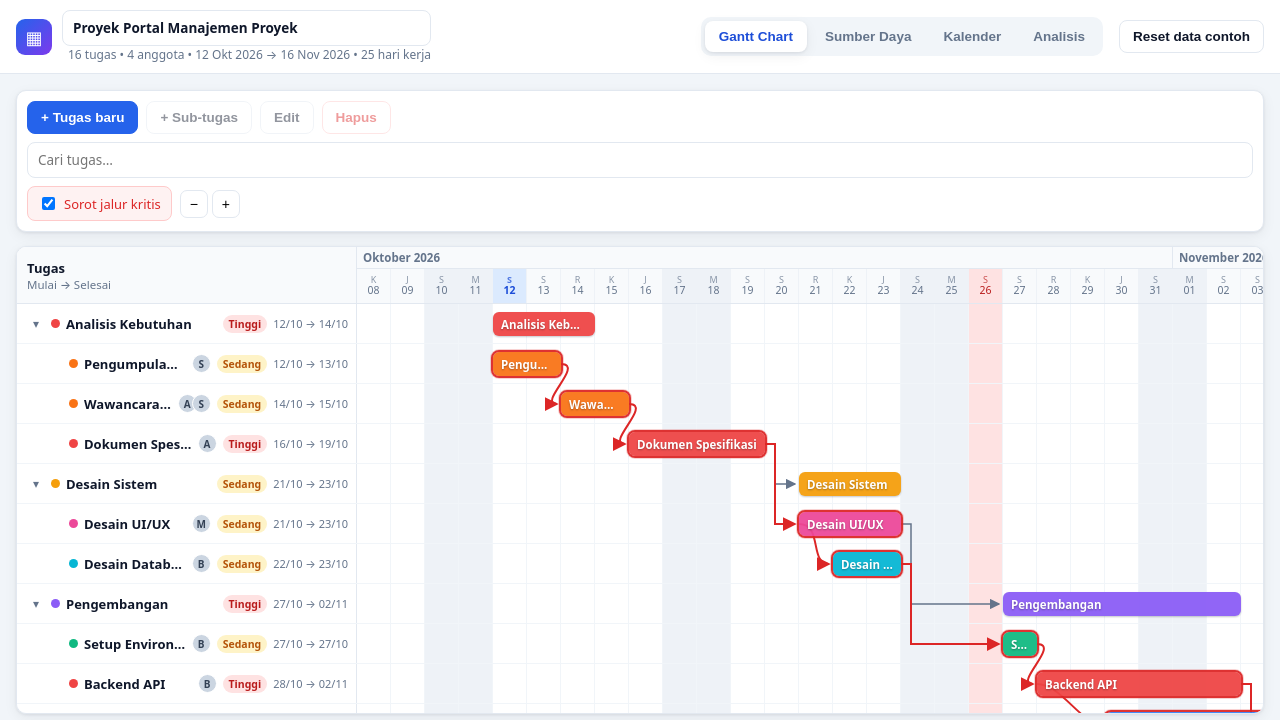
App (UI) › tab Analisis menampilkan jalur kritis dan diagram PERT
Click the button "Analisis".
click(1059, 36)  # box [1019,21,1099,52]
(page scrolled)
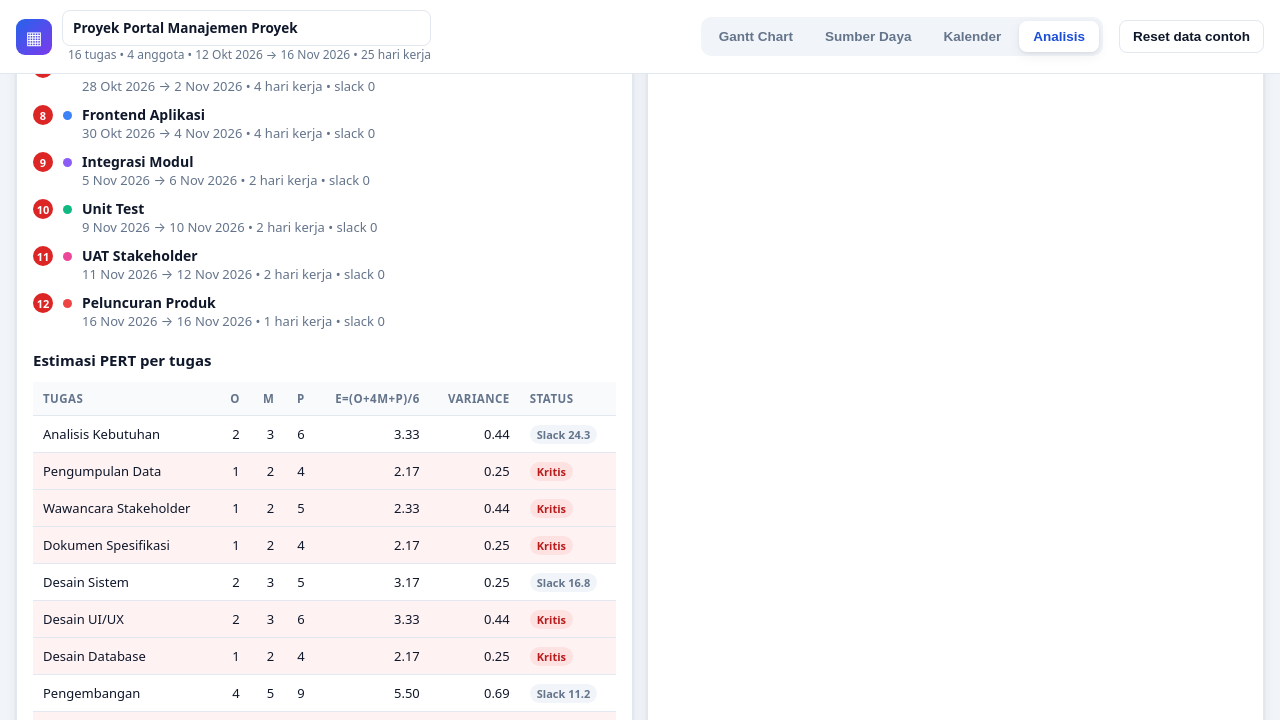
Check: the heading "Estimasi PERT per tugas" is shown, box [33,350,211,370]
